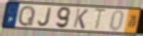0: (108, 10, 126, 33)
9: (54, 6, 72, 30)
J: (36, 7, 53, 27)
K: (72, 8, 90, 30)
Q: (17, 5, 37, 28)
T: (93, 8, 109, 32)
